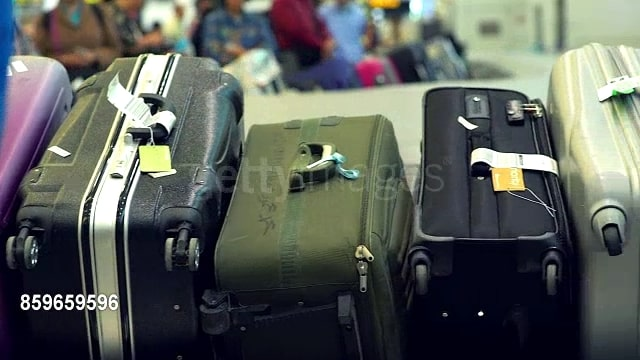baggage: (29, 46, 239, 360), (216, 112, 409, 360), (412, 82, 561, 359), (540, 46, 640, 360)
